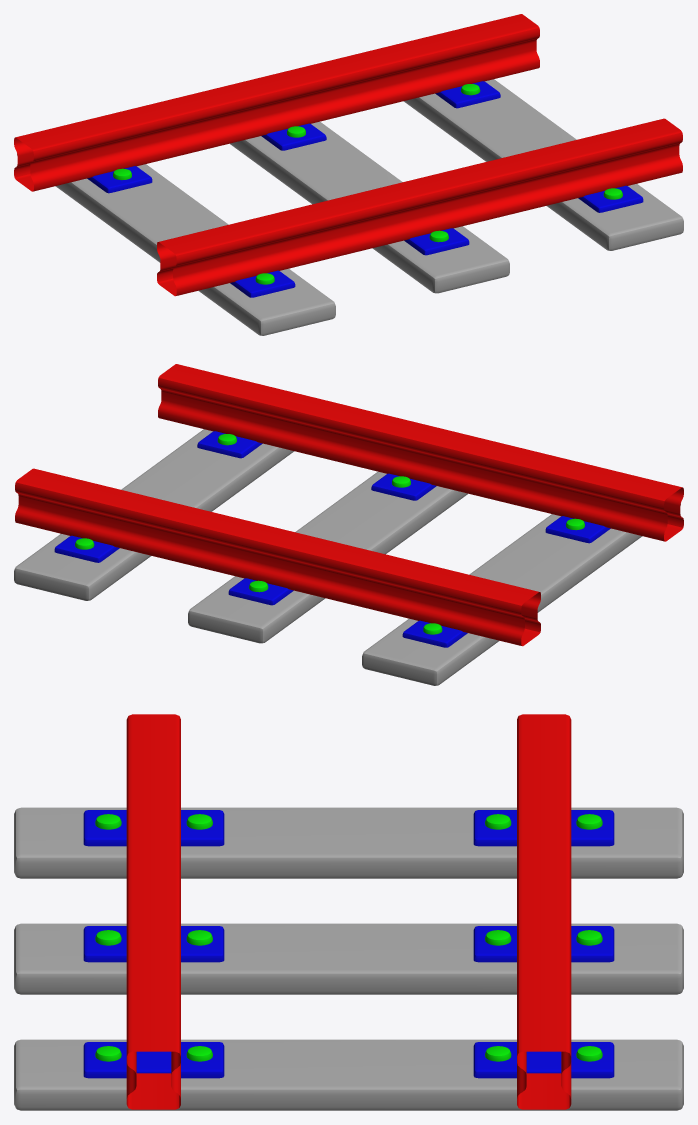
File: SM_Rail.fbx
The picture shows the model from 3 angles, top to bottom: view 1: azimuth 30°, elevation 25°; view 2: azimuth 150°, elevation 25°; view 3: azimuth 270°, elevation 25°; orthographic projection. The views are drawn at different scales.
Parts seen in each view (by area): view 1: pCube2; view 2: pCube2; view 3: pCube2.
Boxes of the visible parts, x1=… form: pCube2: x1=14, y1=14, x2=683, y2=335; pCube2: x1=14, y1=364, x2=683, y2=685; pCube2: x1=14, y1=714, x2=683, y2=1110.
Size of the model in its own units: 436 by 52.48 by 366.
